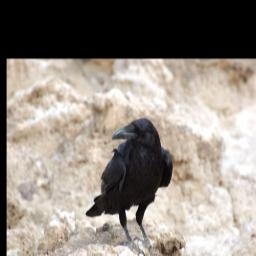Crow: (86, 117, 173, 253)
